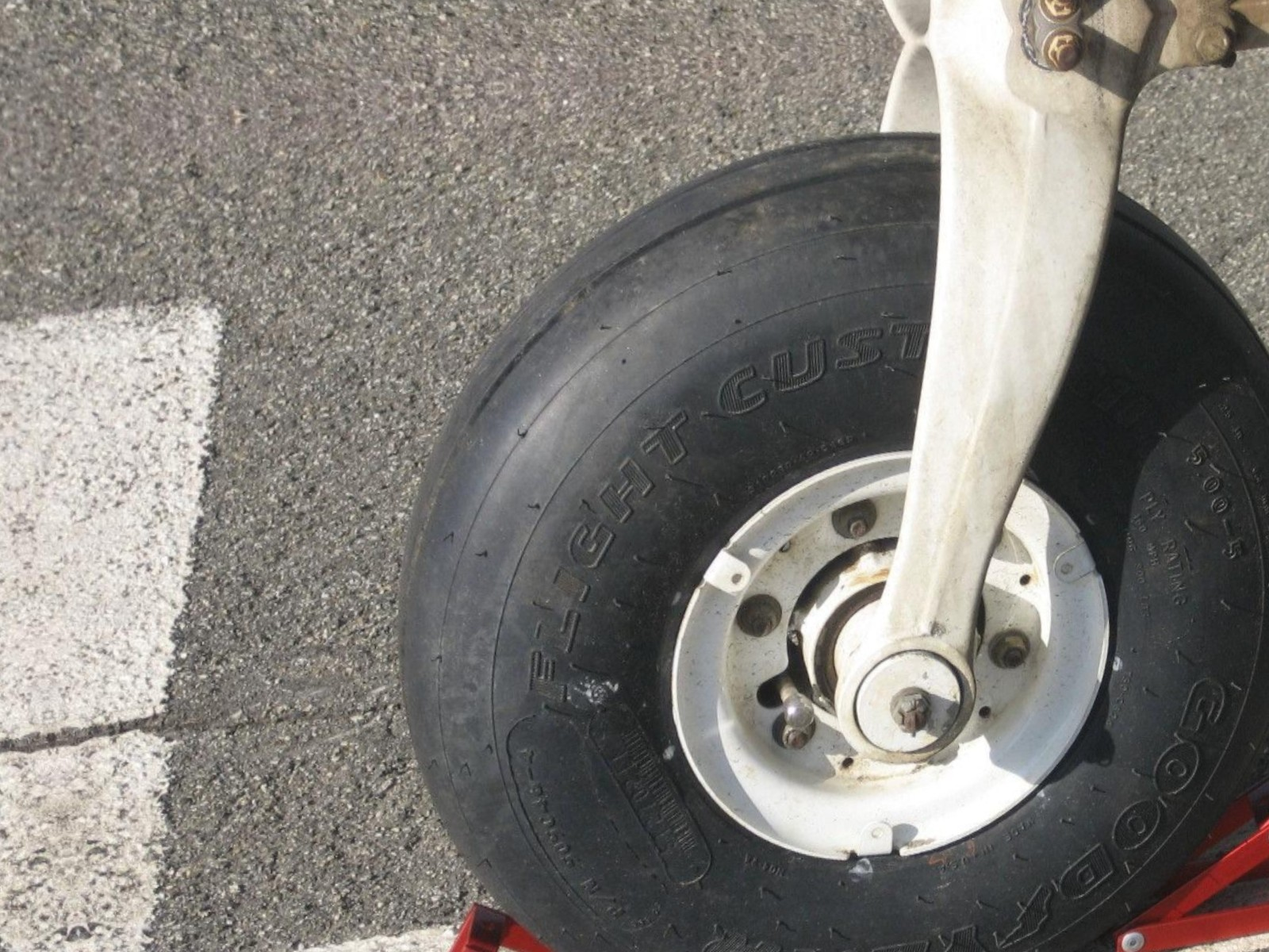chock: (1094, 754, 1269, 952), (384, 856, 679, 952)
wheel: (343, 0, 1269, 952)
